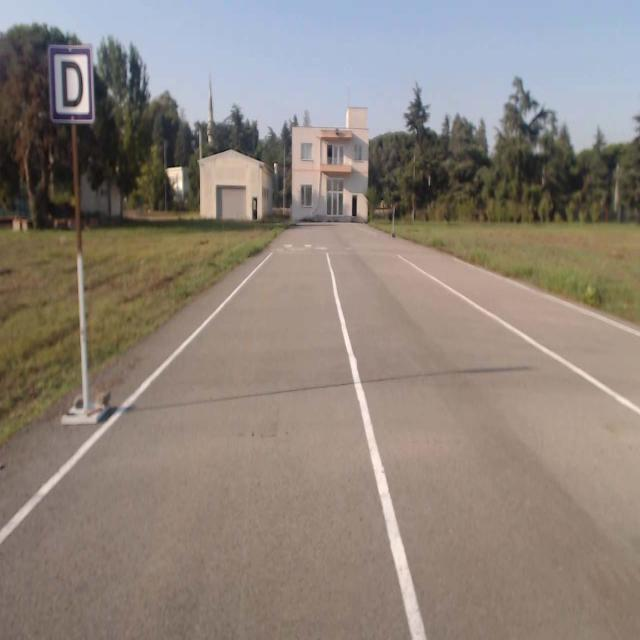durak: (51, 47, 93, 121)
